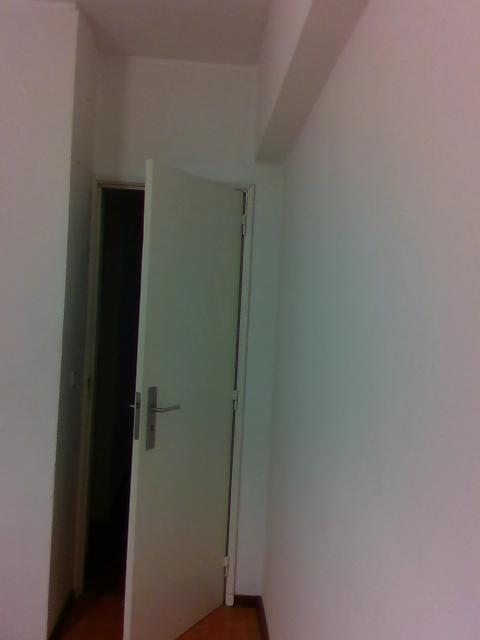semi_door: (67, 149, 256, 636)
